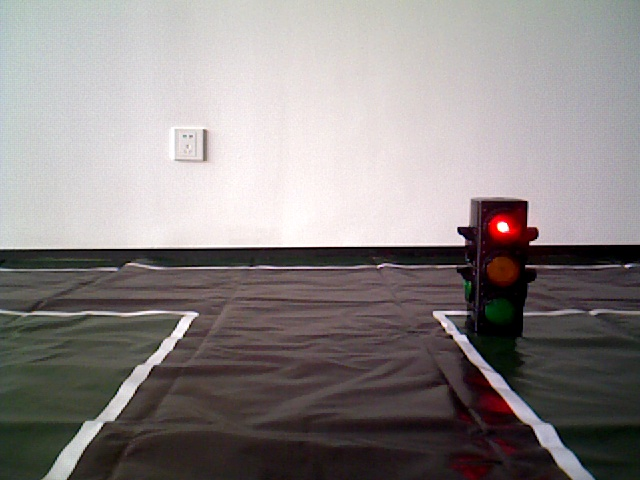red: (470, 201, 519, 331)
